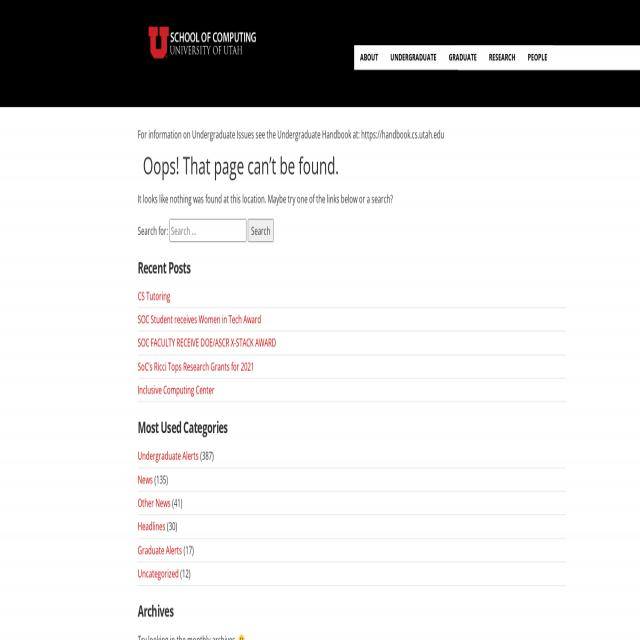button: (383, 45, 441, 70), (441, 46, 483, 70), (483, 45, 521, 70), (520, 46, 554, 70), (354, 45, 383, 70), (247, 218, 273, 242)
field: (170, 219, 247, 243)
